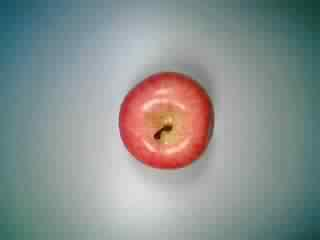apple: (111, 67, 217, 171)
